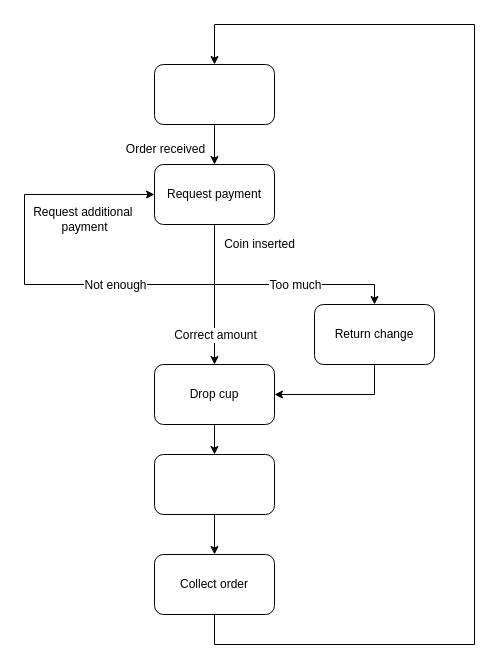
Some shapes in this 500 by 670 pixel diagram are drawn without their labels. The shapes that lost their labels are listed below. From the top down, each one's box as (x1, y1, x2, y2) in pixels, then its label:
(154, 64, 274, 124): Idle
(154, 454, 274, 514): Prepare coffee
